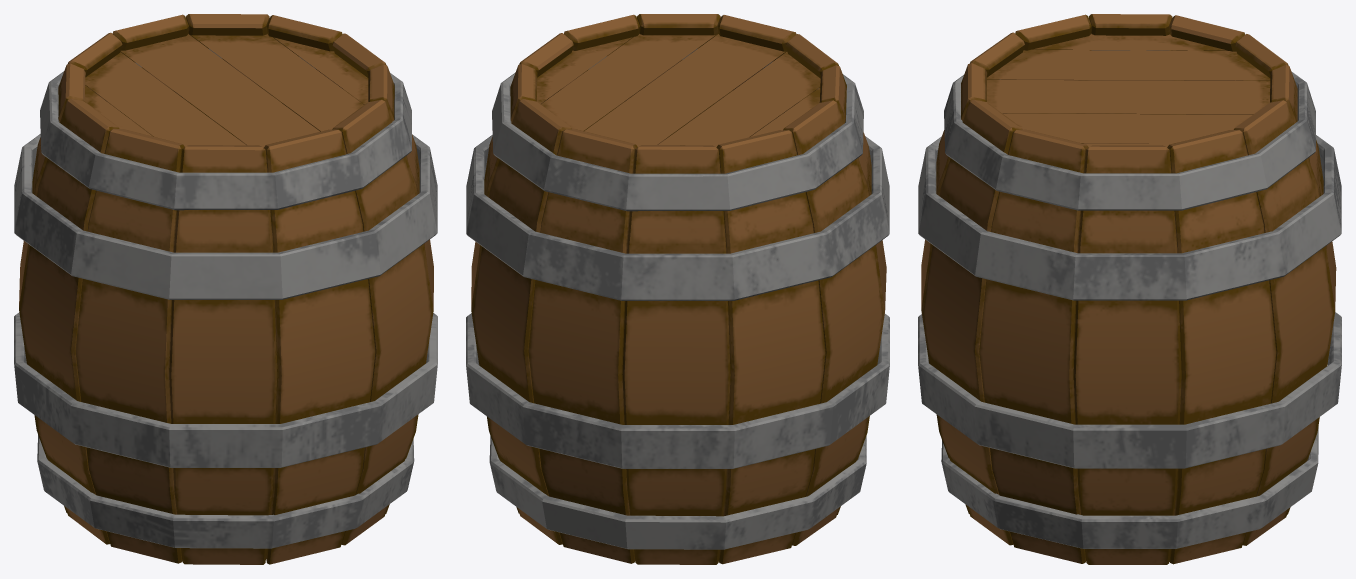
Rendered from Barell.fbx.
3 views of the same model, side by side, from view 1: azimuth 30°, elevation 25°; view 2: azimuth 150°, elevation 25°; view 3: azimuth 270°, elevation 25° (orthographic).
Parts seen in each view (by area): view 1: Barell Side, Barell Top, Steel Barell middle 1, Steel Barell middle 2, Steel Barell top, Steel Barell down; view 2: Barell Side, Barell Top, Steel Barell middle 1, Steel Barell middle 2, Steel Barell top, Steel Barell down; view 3: Barell Side, Barell Top, Steel Barell middle 1, Steel Barell middle 2, Steel Barell top, Steel Barell down.
Boxes of the visible parts, box(x1,y1,x2,y2) form: Barell Side: box(19, 14, 433, 564); Barell Top: box(84, 34, 368, 147); Steel Barell middle 1: box(14, 134, 437, 299); Steel Barell middle 2: box(14, 312, 437, 467); Steel Barell top: box(40, 49, 411, 210); Steel Barell down: box(37, 435, 414, 548); Barell Side: box(471, 14, 886, 564); Barell Top: box(537, 34, 820, 147); Steel Barell middle 1: box(466, 135, 889, 300); Steel Barell middle 2: box(466, 313, 889, 468); Steel Barell top: box(492, 48, 863, 211); Steel Barell down: box(489, 435, 866, 549); Barell Side: box(921, 14, 1336, 564); Barell Top: box(987, 33, 1270, 147); Steel Barell middle 1: box(918, 135, 1341, 300); Steel Barell middle 2: box(918, 312, 1341, 468); Steel Barell top: box(944, 50, 1315, 210); Steel Barell down: box(941, 426, 1318, 548).
Bounding box in the file's own units: 138 × 150 × 138.
